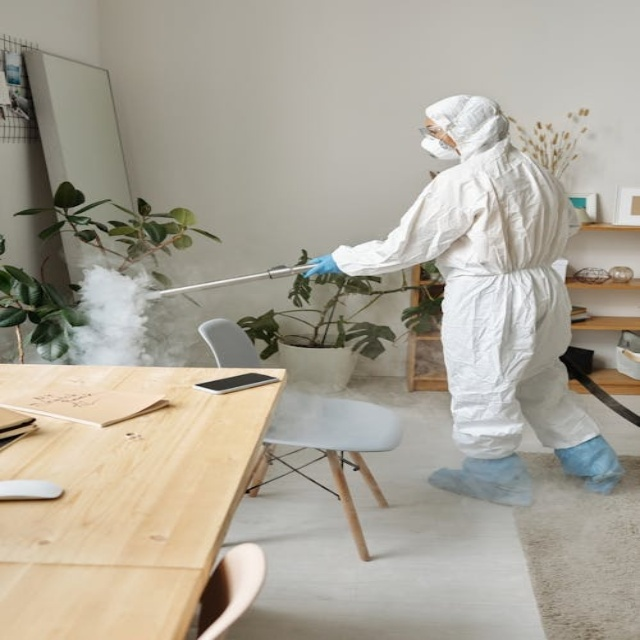Gafas: (418, 124, 448, 139)
Guantes: (300, 254, 344, 277)
Mascara: (420, 133, 457, 160)
